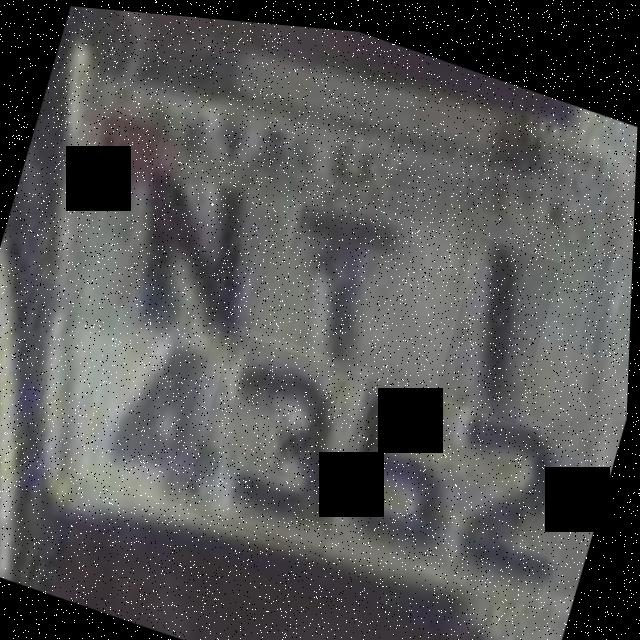2: (406, 385, 597, 604)
3: (170, 311, 373, 545)
4: (75, 292, 254, 515)
5: (305, 362, 474, 566)
8: (184, 324, 378, 555)
I: (436, 224, 563, 416)
N: (116, 126, 297, 346)
T: (254, 170, 432, 390)
